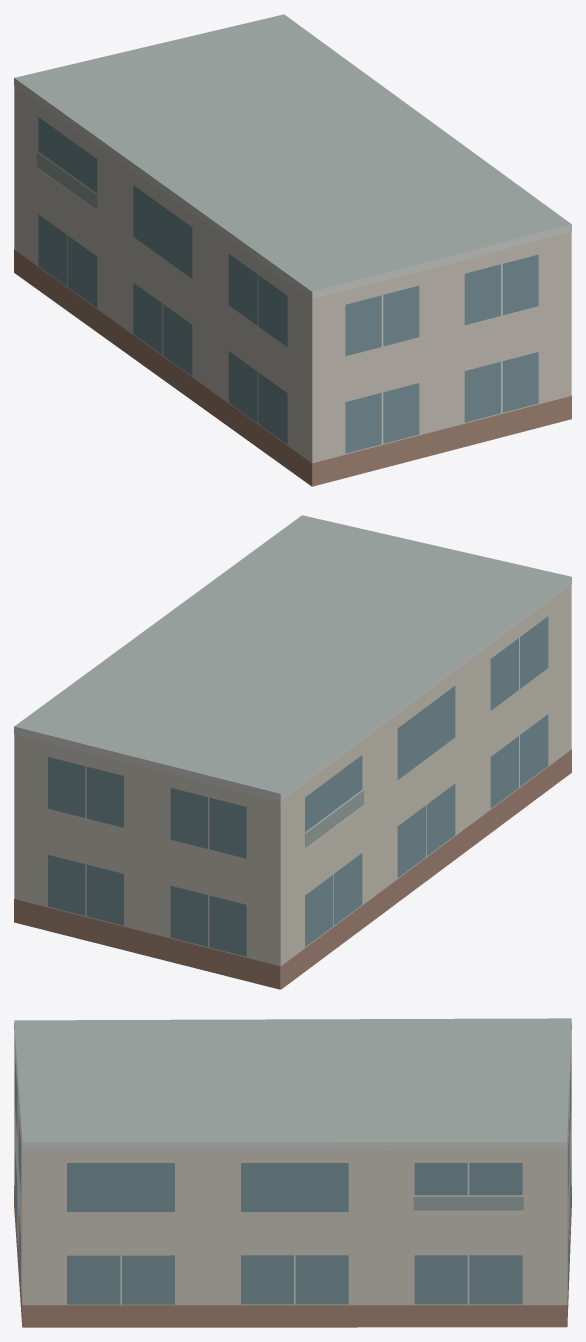
The model's file is survey-upis-32818419.glb.
3 views of the same model, one above another, from view 1: azimuth 30°, elevation 25°; view 2: azimuth 150°, elevation 25°; view 3: azimuth 270°, elevation 25° (orthographic). The views are drawn at different scales.
Parts seen in each view (by area): view 1: survey-upis-32818419.tmp; view 2: survey-upis-32818419.tmp; view 3: survey-upis-32818419.tmp.
Boxes of the visible parts, box(x1,y1,x2,y2) form: survey-upis-32818419.tmp: box(14, 14, 571, 486); survey-upis-32818419.tmp: box(14, 515, 571, 989); survey-upis-32818419.tmp: box(14, 1018, 571, 1327).
Bounding box in the file's own units: 8.84 × 6.1 × 16.68.
